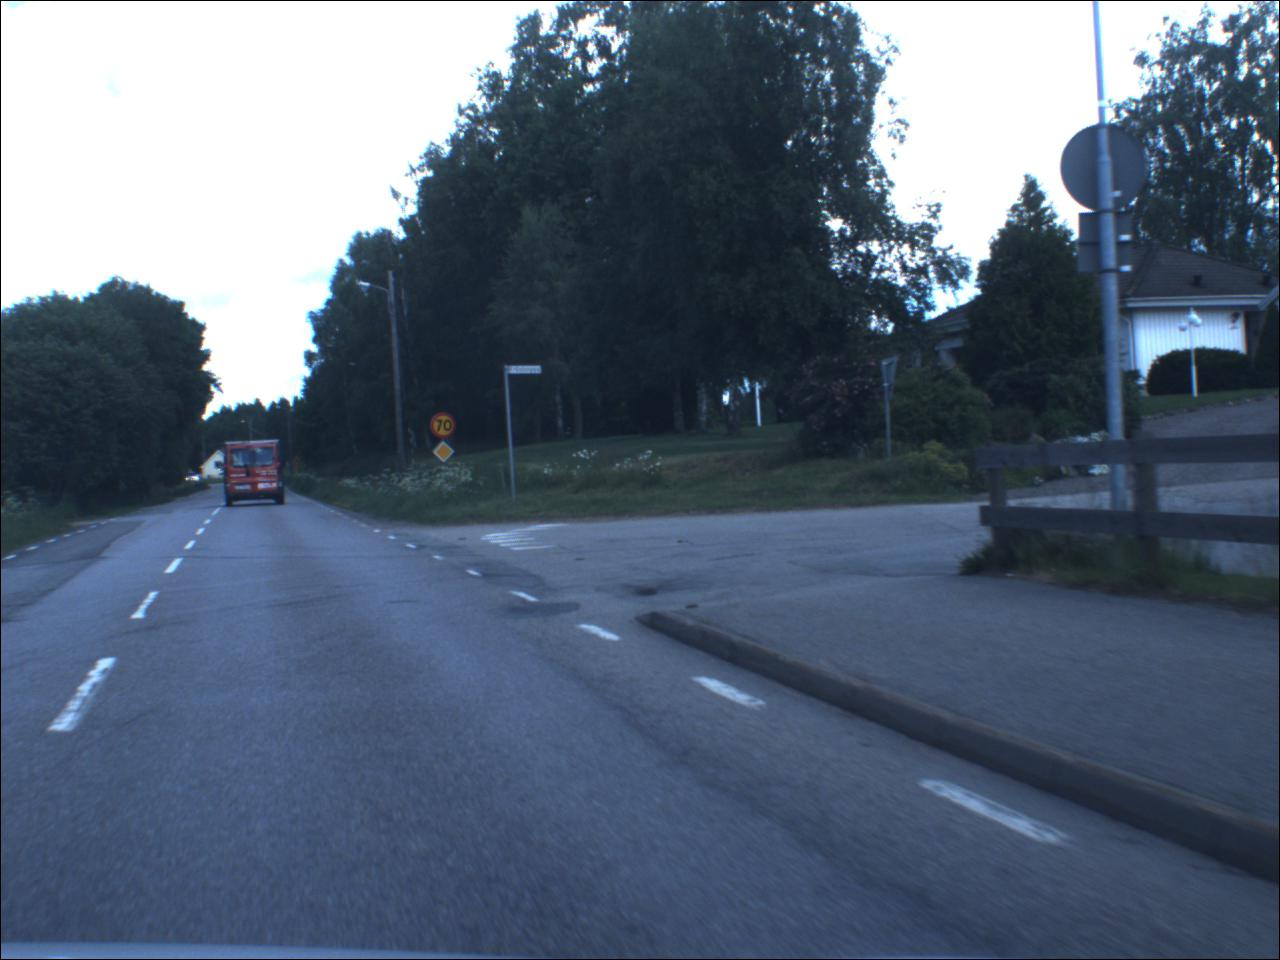70_SIGN: (432, 414, 460, 440)
PRIORITY_ROAD: (435, 442, 458, 467)
